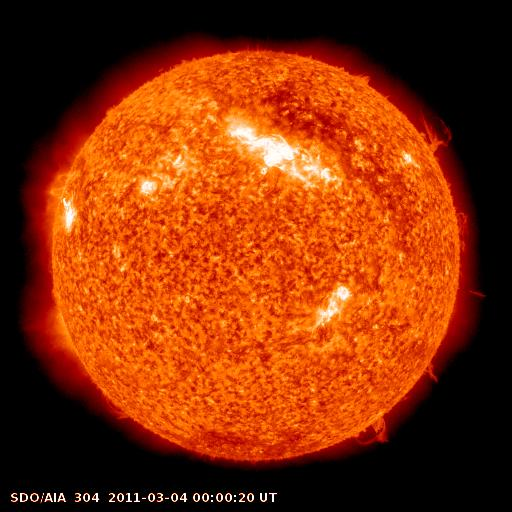prominence: (405, 97, 457, 161), (344, 405, 399, 459), (442, 195, 483, 265), (85, 383, 141, 430), (406, 346, 450, 391), (449, 277, 488, 309), (346, 62, 378, 92)
